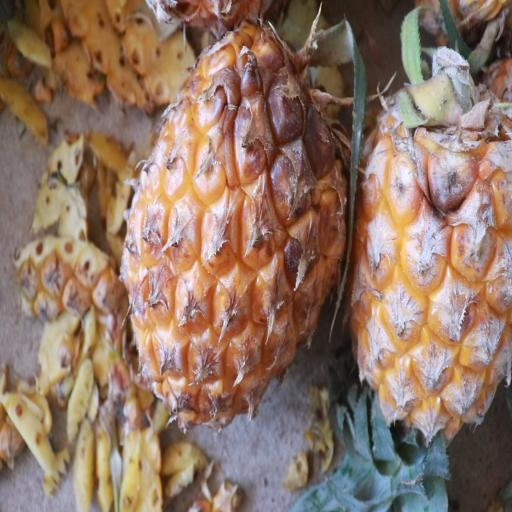Pineapple - v8 v1: (118, 10, 353, 434), (345, 43, 512, 487)
